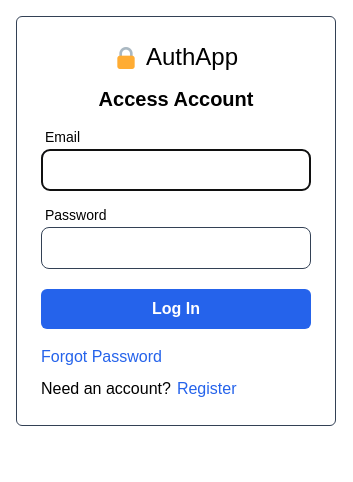
AccountApp › login › validation › email and password are required
This screenshot has width=353, height=482.
expect the heading "AuthApp" is shown: met, box [146,41,238,73]
Click the button "Log In": (176, 309) [41,289,311,329]
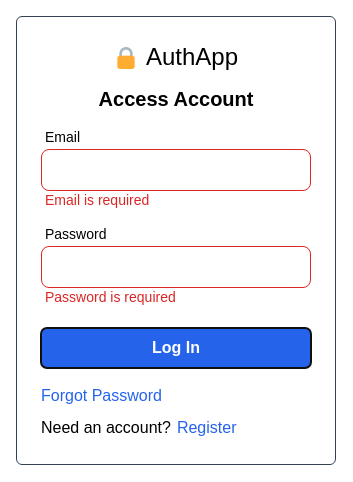
expect the text "Email is required" is shown: met, box [45,192,149,208]
expect the text "Password is required" is shown: met, box [45,289,176,305]
